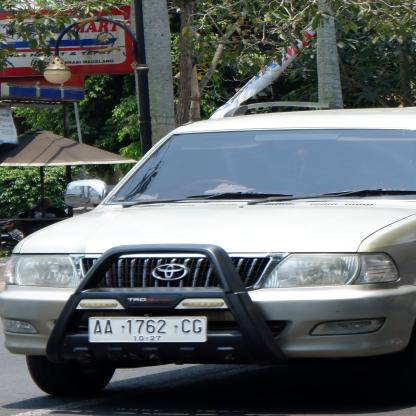Plat-Nomor: (84, 314, 213, 344)
